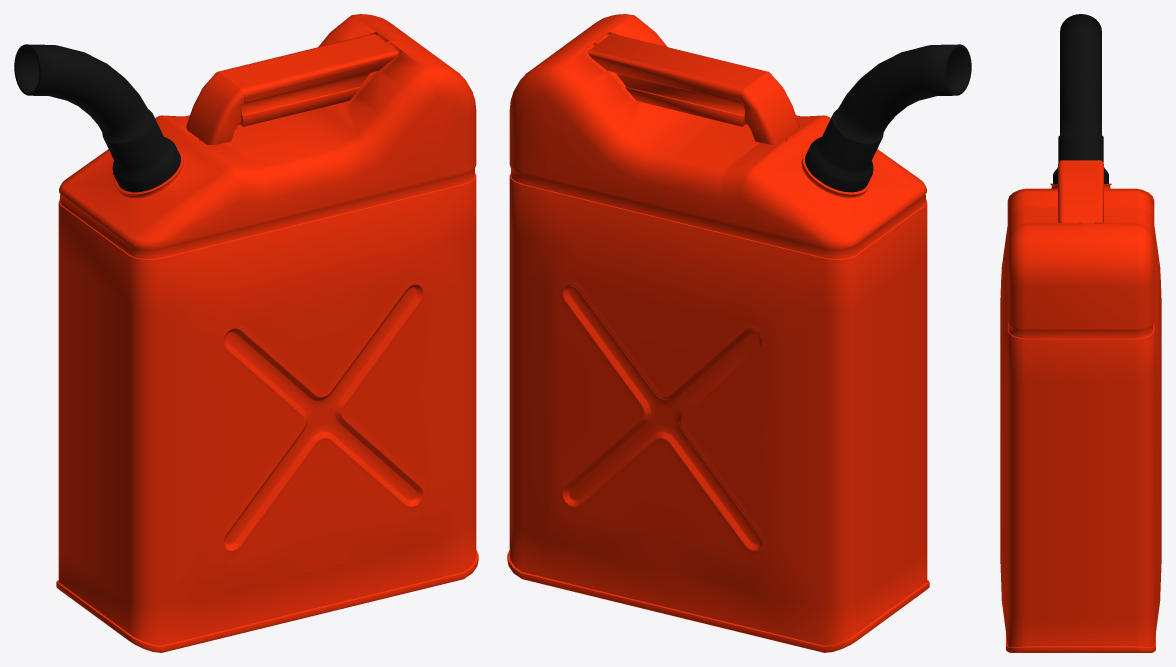
File: fuel.glb
3 renders of one model, left to right at view 1: azimuth 30°, elevation 25°; view 2: azimuth 150°, elevation 25°; view 3: azimuth 270°, elevation 25°, orthographic. The views are drawn at different scales.
Parts seen in each view (by area): view 1: Jerrycan; view 2: Jerrycan; view 3: Jerrycan.
Boxes of the visible parts, x1,y1,x2,y2 form: Jerrycan: [14, 14, 478, 652]; Jerrycan: [507, 14, 971, 652]; Jerrycan: [1000, 14, 1161, 652].
Size of the model in its own units: 1.63 by 2.22 by 0.6722.
